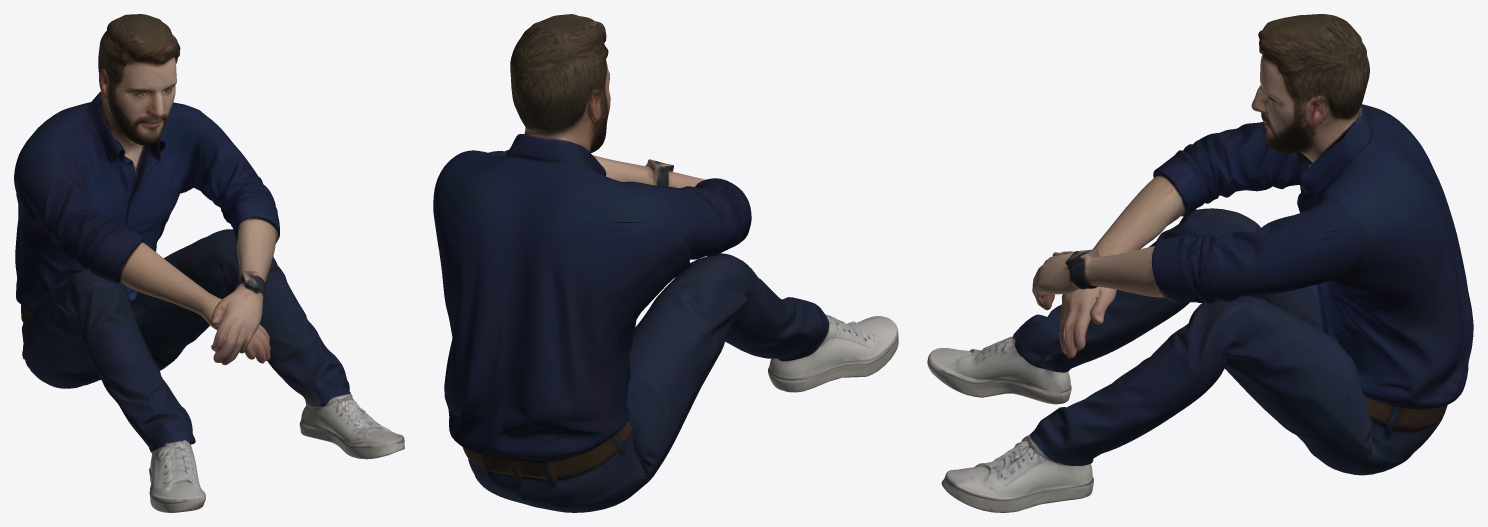
Rendered from Me_Sitting.glb.
The picture shows the model from 3 angles, left to right: view 1: azimuth 30°, elevation 25°; view 2: azimuth 150°, elevation 25°; view 3: azimuth 270°, elevation 25°; orthographic projection. The views are drawn at different scales.
Parts seen in each view (by area): view 1: me; view 2: me; view 3: me.
Part boxes in pixels (bbox=[...]): me: bbox=[14, 14, 404, 512]; me: bbox=[433, 14, 898, 512]; me: bbox=[927, 14, 1473, 512].
Bounding box in the file's own units: 0.00415 × 0.006 × 0.00671.
Materials: 1 (1 with a texture image).
